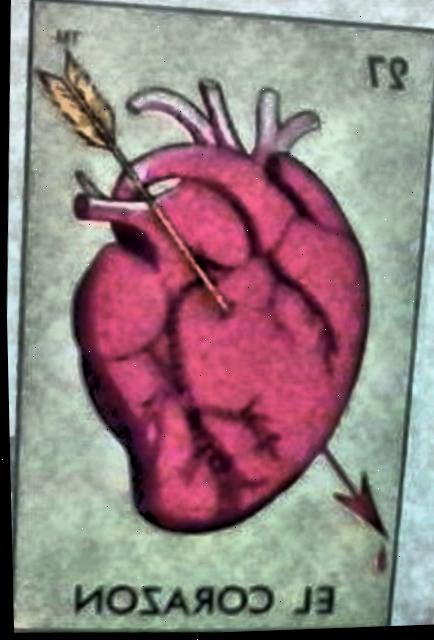El Corazon: (8, 1, 434, 632)
